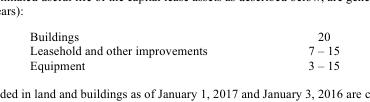table: (28, 28, 338, 71)
table column: (28, 28, 257, 71), (257, 28, 338, 71)
table row: (28, 42, 338, 57), (28, 28, 338, 42), (28, 57, 338, 71)
